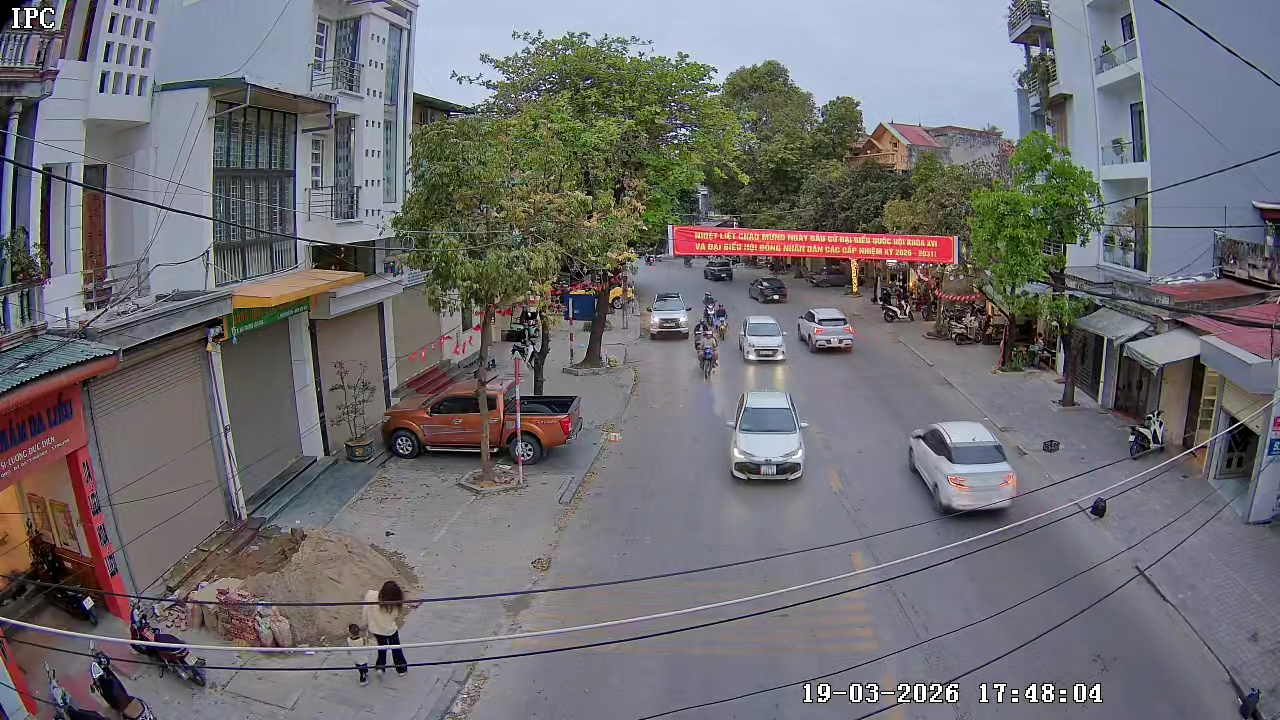car: (906, 419, 1018, 518), (727, 389, 810, 485), (799, 306, 856, 354), (737, 313, 788, 363), (647, 294, 692, 339), (750, 277, 788, 303)
motorbike: (697, 333, 718, 377), (714, 299, 730, 340)
truck: (379, 374, 582, 461)
